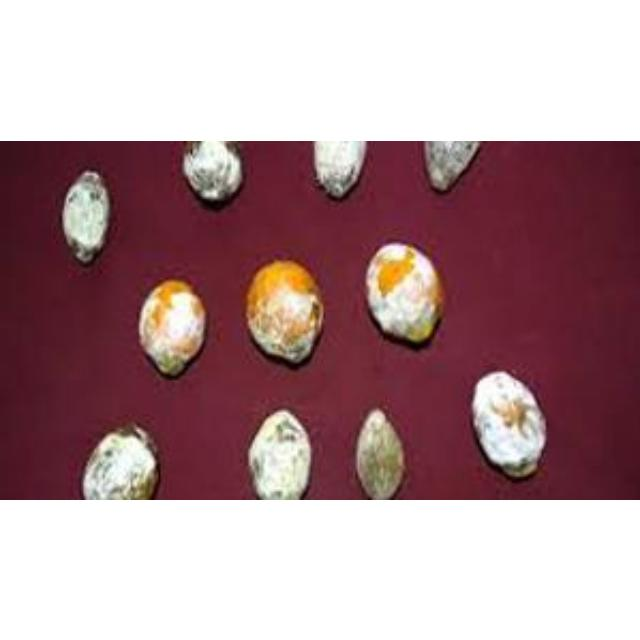damaged: (362, 236, 446, 344), (243, 257, 324, 363), (470, 369, 548, 478), (137, 276, 207, 374), (80, 420, 162, 500), (246, 408, 312, 498), (61, 168, 111, 264), (354, 407, 406, 498), (182, 140, 244, 202), (313, 140, 367, 198), (424, 141, 482, 191)
